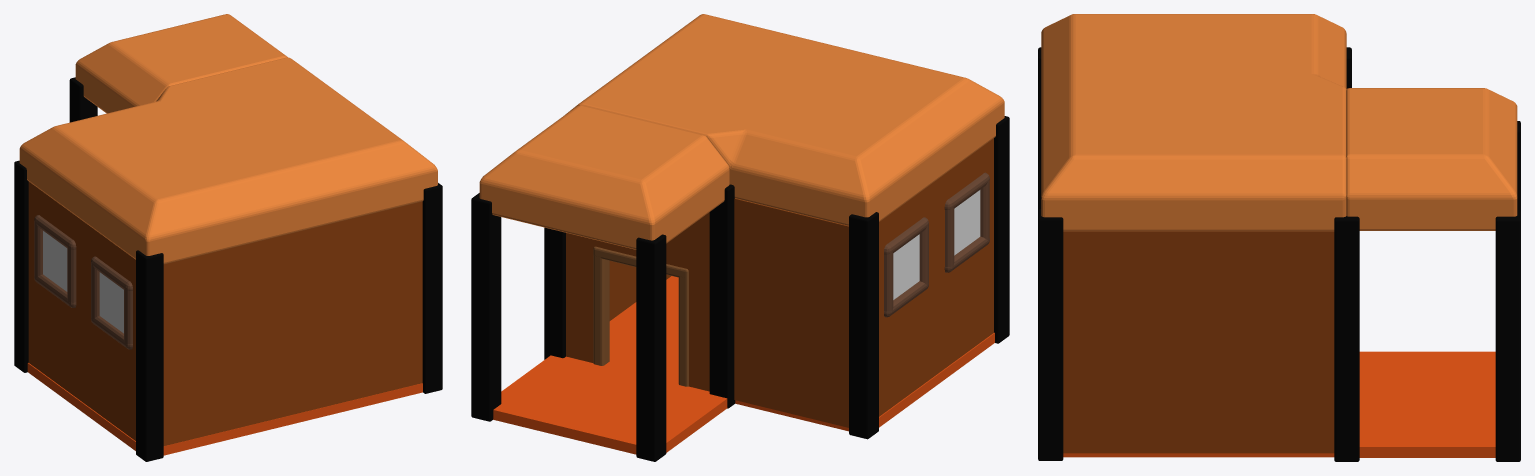
File: trash building 0.5still going .fbx
3 views of the same model, side by side, from view 1: azimuth 30°, elevation 25°; view 2: azimuth 150°, elevation 25°; view 3: azimuth 270°, elevation 25° (orthographic). The views are drawn at different scales.
Parts seen in each view (by area): view 1: Cube.007, Cube.006, Cube.014, Cube.013, Cube.008, Cube.011; view 2: Cube.007, Cube.006, Cube.014, Cube.008, Cube.013, Cube.010, Cube.011; view 3: Cube.007, Cube.006, Cube.014, Cube.008.
Part boxes in pixels (left/top/right/bottom): Cube.007: left=19, top=14, right=437, bottom=264; Cube.006: left=28, top=181, right=422, bottom=445; Cube.014: left=14, top=77, right=442, bottom=461; Cube.013: left=34, top=215, right=132, bottom=349; Cube.008: left=27, top=363, right=422, bottom=455; Cube.011: left=43, top=231, right=123, bottom=333; Cube.007: left=479, top=14, right=1004, bottom=249; Cube.006: left=566, top=138, right=993, bottom=427; Cube.014: left=471, top=116, right=1009, bottom=461; Cube.008: left=493, top=276, right=994, bottom=454; Cube.013: left=884, top=172, right=989, bottom=317; Cube.010: left=593, top=246, right=688, bottom=386; Cube.011: left=893, top=190, right=980, bottom=299; Cube.007: left=1041, top=14, right=1517, bottom=231; Cube.006: left=1063, top=231, right=1334, bottom=453; Cube.014: left=1038, top=47, right=1520, bottom=461; Cube.008: left=1063, top=351, right=1495, bottom=457.
Bounding box in the file's own units: 668 × 523 × 787.
